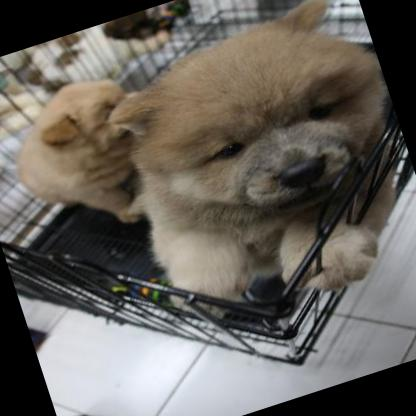chow: (89, 0, 416, 337), (0, 63, 176, 251)
